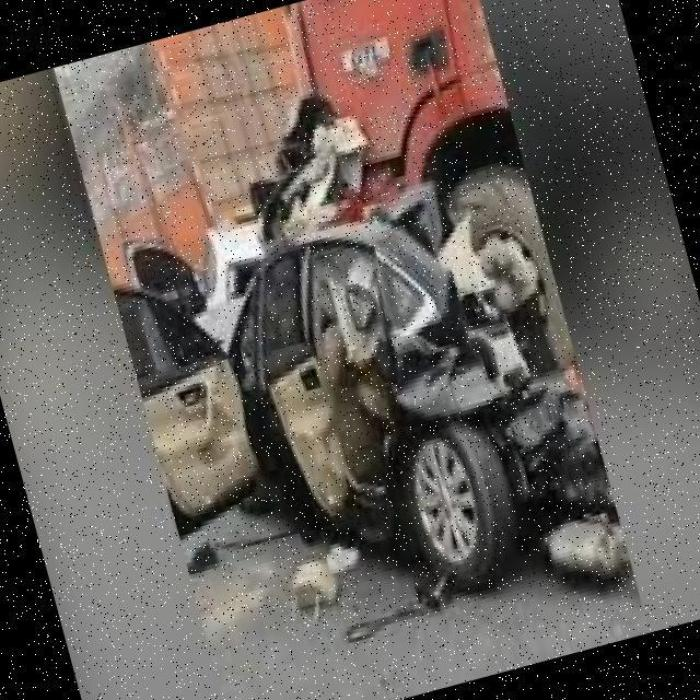Accident: (129, 26, 636, 670)
